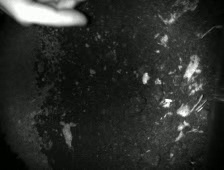corn: (139, 71, 151, 86)
